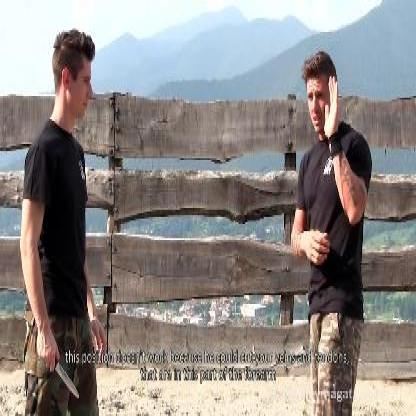knife: (36, 338, 80, 402)
